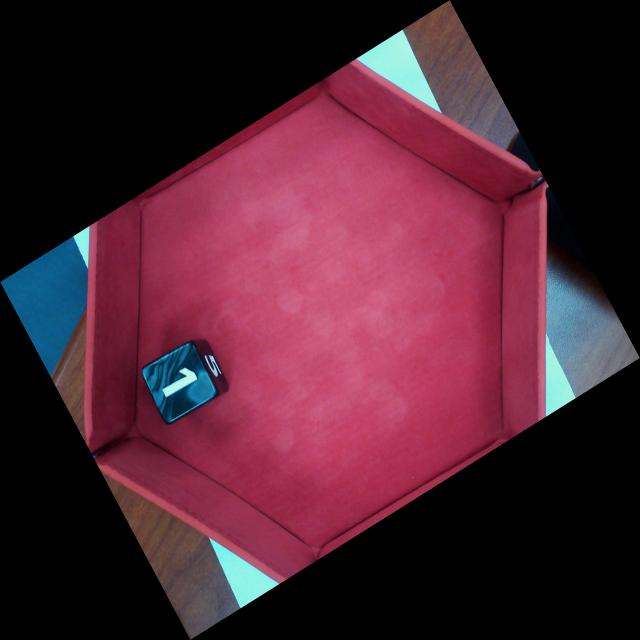dice: (136, 338, 221, 427)
